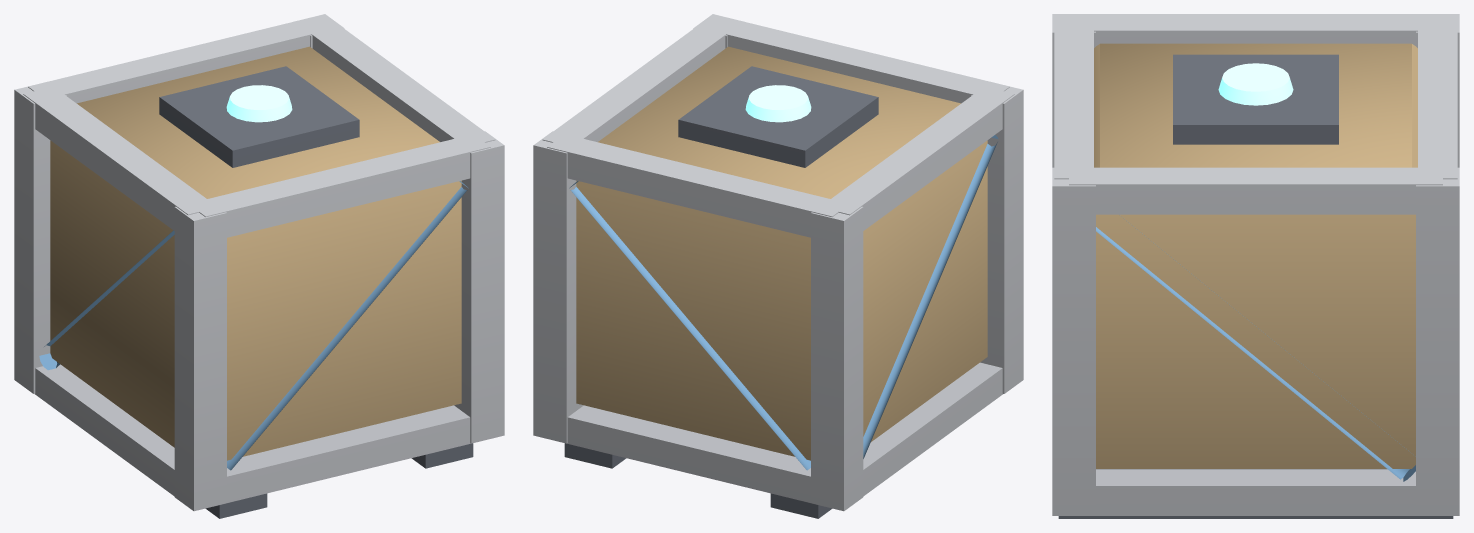
The model's file is supply_crate.glb.
The picture shows the model from 3 angles, left to right: view 1: azimuth 30°, elevation 25°; view 2: azimuth 150°, elevation 25°; view 3: azimuth 270°, elevation 25°; orthographic projection. The views are drawn at different scales.
Parts seen in each view (by area): view 1: Hull; view 2: Hull; view 3: Hull.
Part boxes in pixels (x1,y1,x2,y2): Hull: (14,14,504,518); Hull: (533,14,1023,518); Hull: (1052,14,1459,518).
Size of what is drawn, in the model's own units: 0.784 by 0.788 by 0.784.
